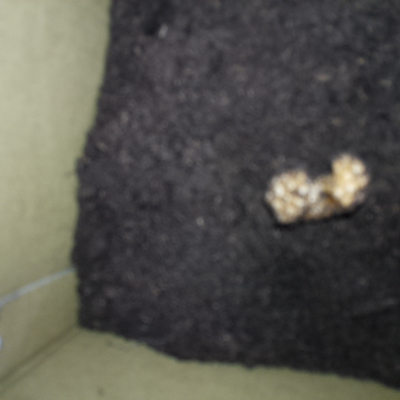eggs: (260, 147, 373, 232)
